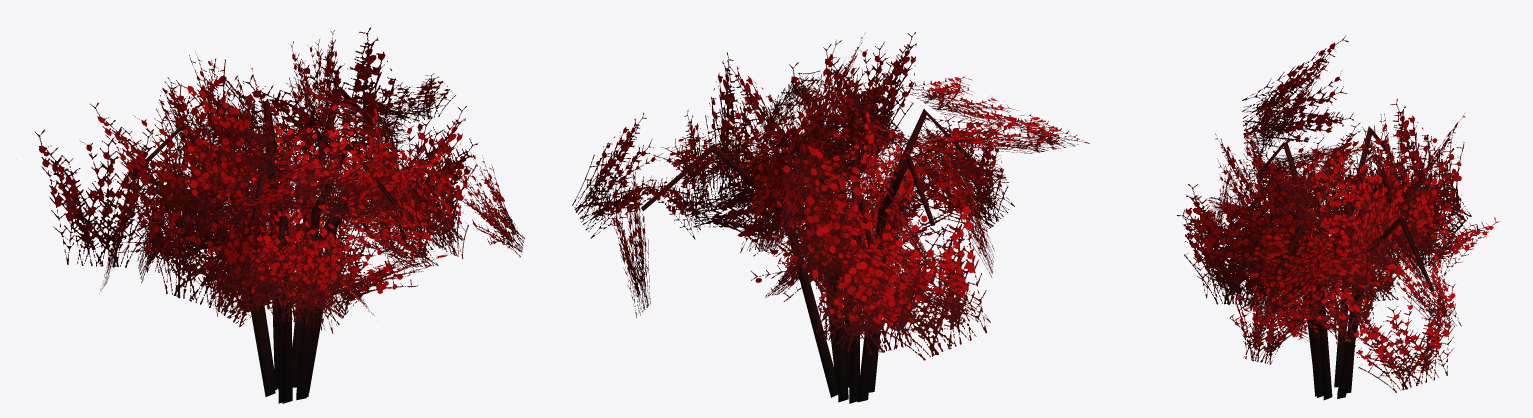
Rendered from bush_highlands_gorse_a.glb.
3 renders of one model, left to right at view 1: azimuth 30°, elevation 25°; view 2: azimuth 150°, elevation 25°; view 3: azimuth 270°, elevation 25°, orthographic. The views are drawn at different scales.
Visible parts, largest first — view 1: bush_highlands_gorse_a; view 2: bush_highlands_gorse_a; view 3: bush_highlands_gorse_a.
Boxes of the visible parts, x1,y1,x2,y2 form: bush_highlands_gorse_a: (35, 27, 524, 403); bush_highlands_gorse_a: (572, 32, 1089, 403); bush_highlands_gorse_a: (1176, 35, 1499, 400).
Size of the model in its own units: 1.57 by 1.17 by 1.23.
1 material, 1 textured.
